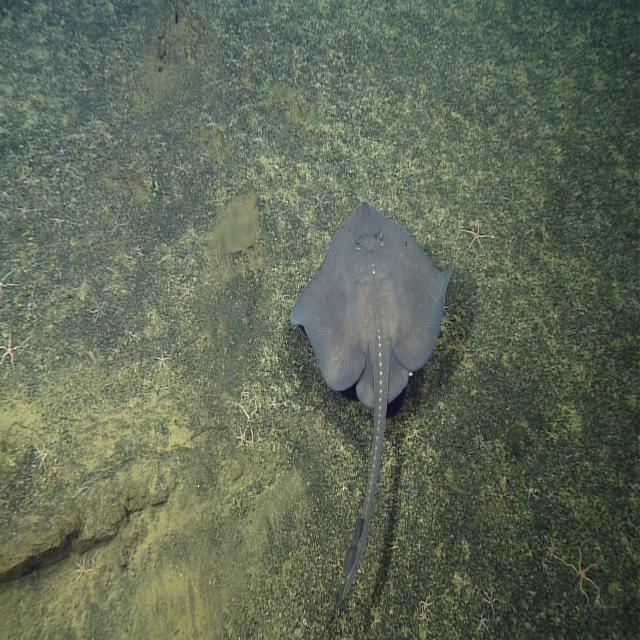Brittle Star: (555, 538, 606, 604), (304, 170, 348, 238), (455, 209, 496, 266), (1, 328, 34, 373), (490, 189, 518, 242), (147, 344, 178, 378), (228, 418, 253, 460), (230, 373, 254, 414), (166, 149, 194, 181), (10, 203, 42, 226)
Not Brittle Star: (290, 185, 455, 616)
